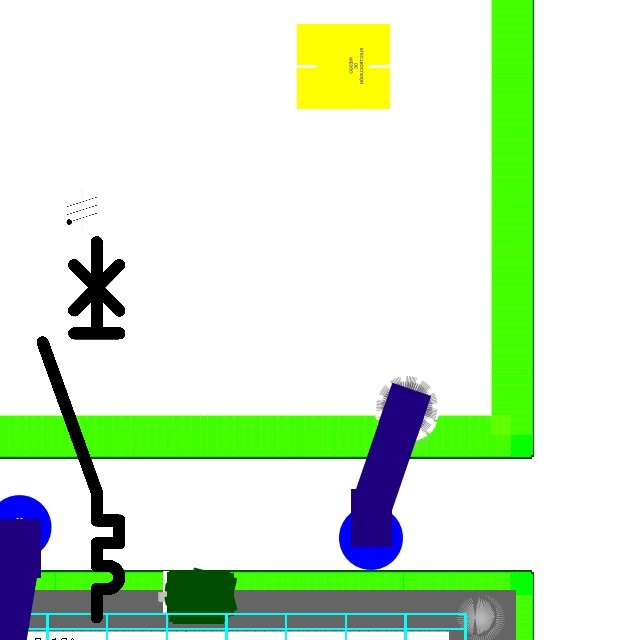interruptor_termomagnetico: (33, 232, 129, 627)
